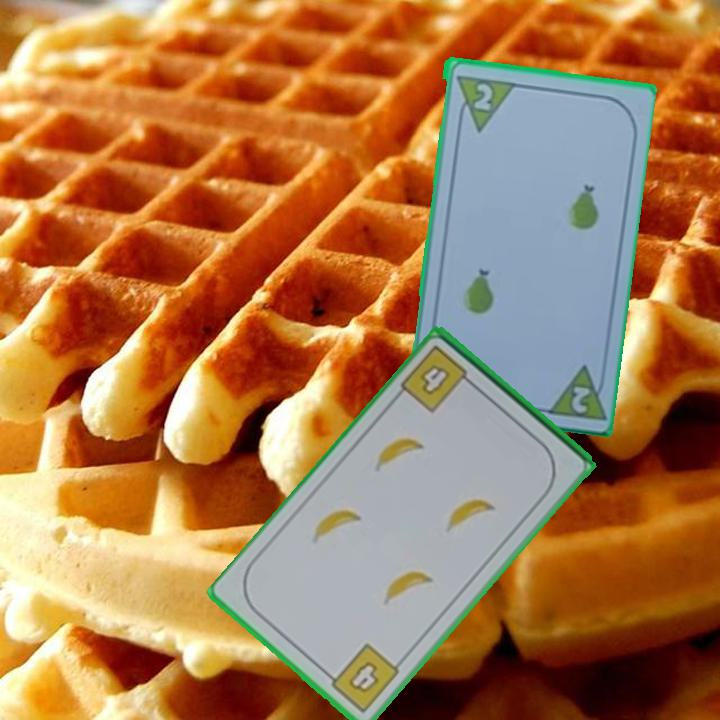2p: (540, 360, 608, 423), (470, 79, 495, 113)
4b: (321, 639, 403, 716), (397, 341, 480, 416)
